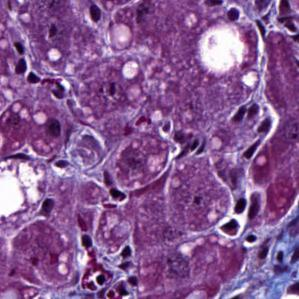ballooning: (3, 154, 52, 236), (194, 20, 251, 78)
